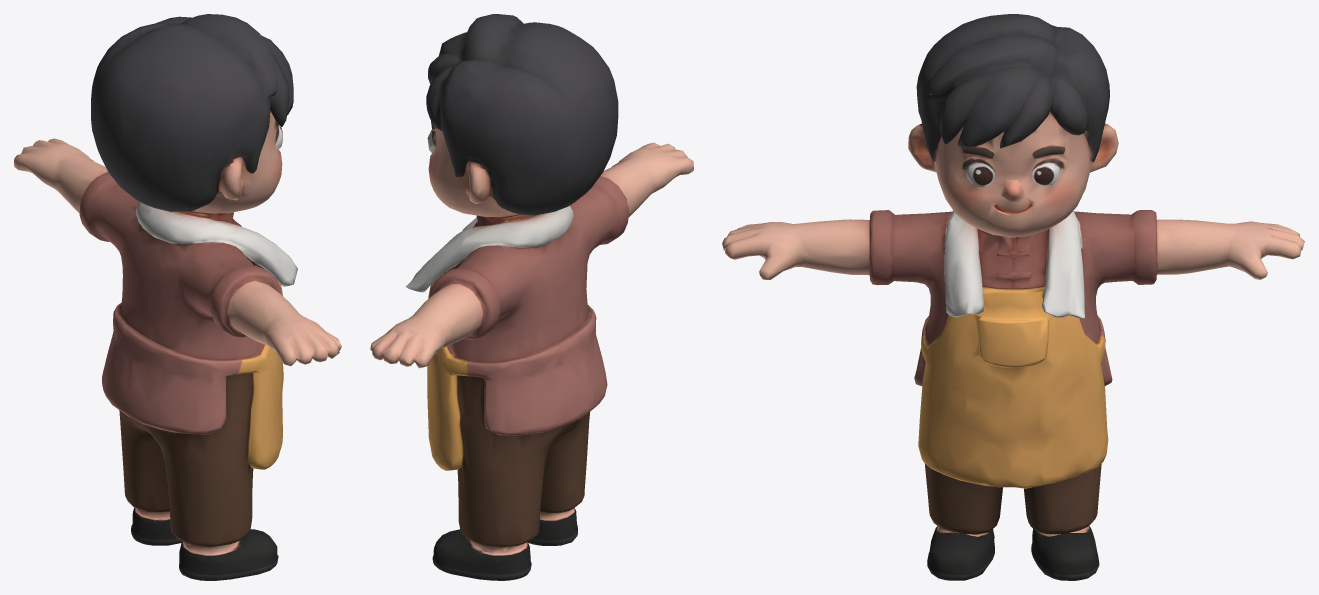
The model's file is s3_staff_cashier_source.glb.
3 views of the same model, side by side, from view 1: azimuth 30°, elevation 25°; view 2: azimuth 150°, elevation 25°; view 3: azimuth 270°, elevation 25° (orthographic). The views are drawn at different scales.
Parts seen in each view (by area): view 1: tripo_node_1f0c193e-1c9e-4f1b-8889-0769f1bccd0e; view 2: tripo_node_1f0c193e-1c9e-4f1b-8889-0769f1bccd0e; view 3: tripo_node_1f0c193e-1c9e-4f1b-8889-0769f1bccd0e.
Boxes of the visible parts, x1,y1,x2,y2 form: tripo_node_1f0c193e-1c9e-4f1b-8889-0769f1bccd0e: [14, 14, 341, 580]; tripo_node_1f0c193e-1c9e-4f1b-8889-0769f1bccd0e: [370, 14, 693, 580]; tripo_node_1f0c193e-1c9e-4f1b-8889-0769f1bccd0e: [722, 14, 1304, 580].
Size of the model in its own units: 0.3443 by 1 by 0.9923.
Materials: 1 (1 with a texture image).
